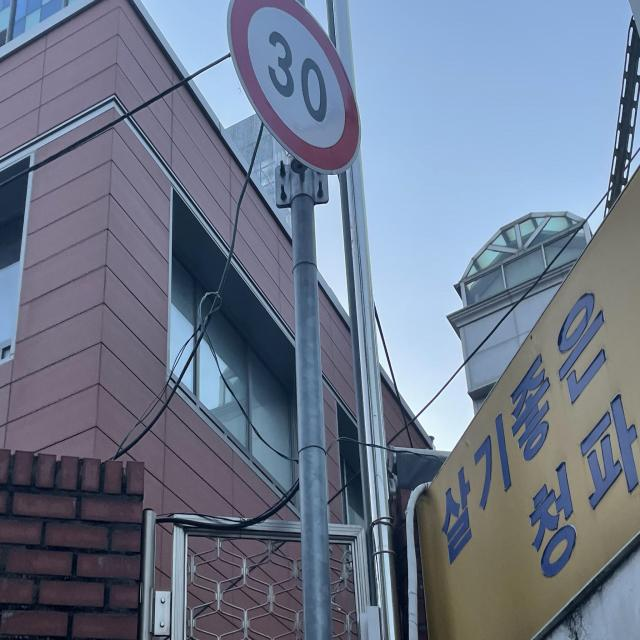traffic_sign: (228, 3, 358, 168)
